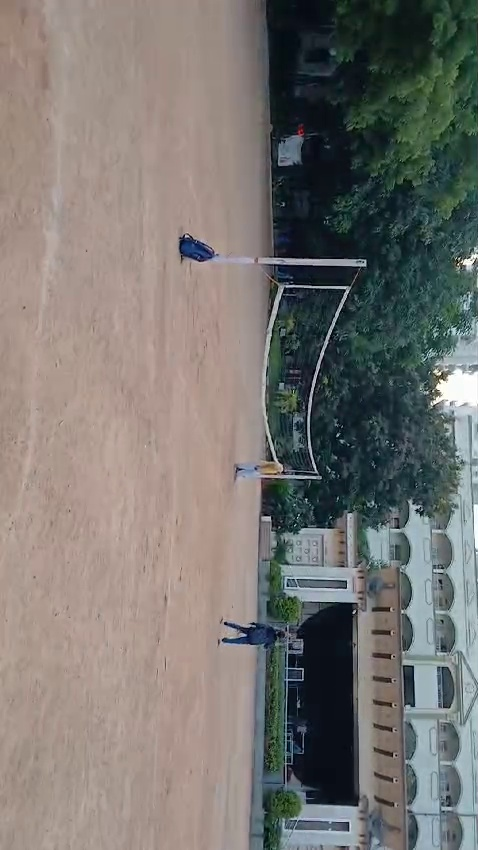bag: (177, 232, 219, 276)
